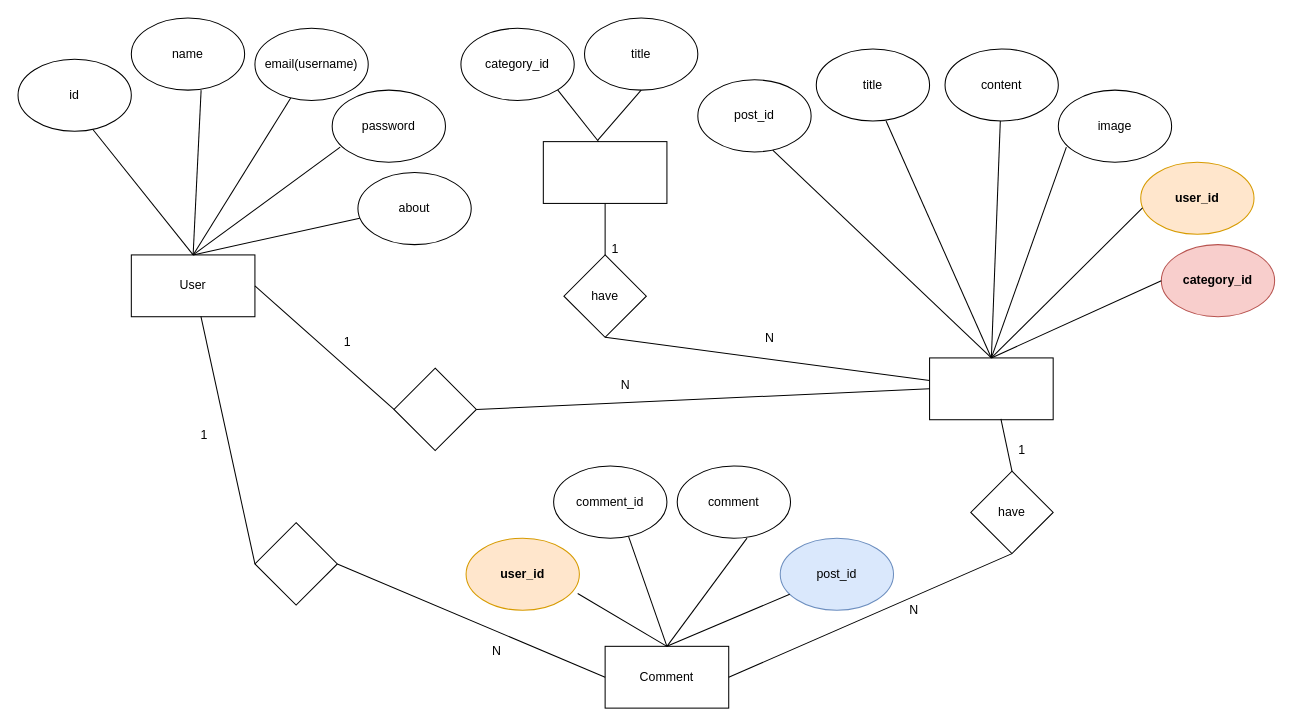
Some shapes in this 1293 by 726 pixel diagram are drawn without their labels. Each missing label, with the box of its shape:
Can Create: (393, 367, 476, 451)
Category: (542, 141, 667, 203)
do: (254, 522, 337, 605)
Post: (929, 357, 1053, 420)
